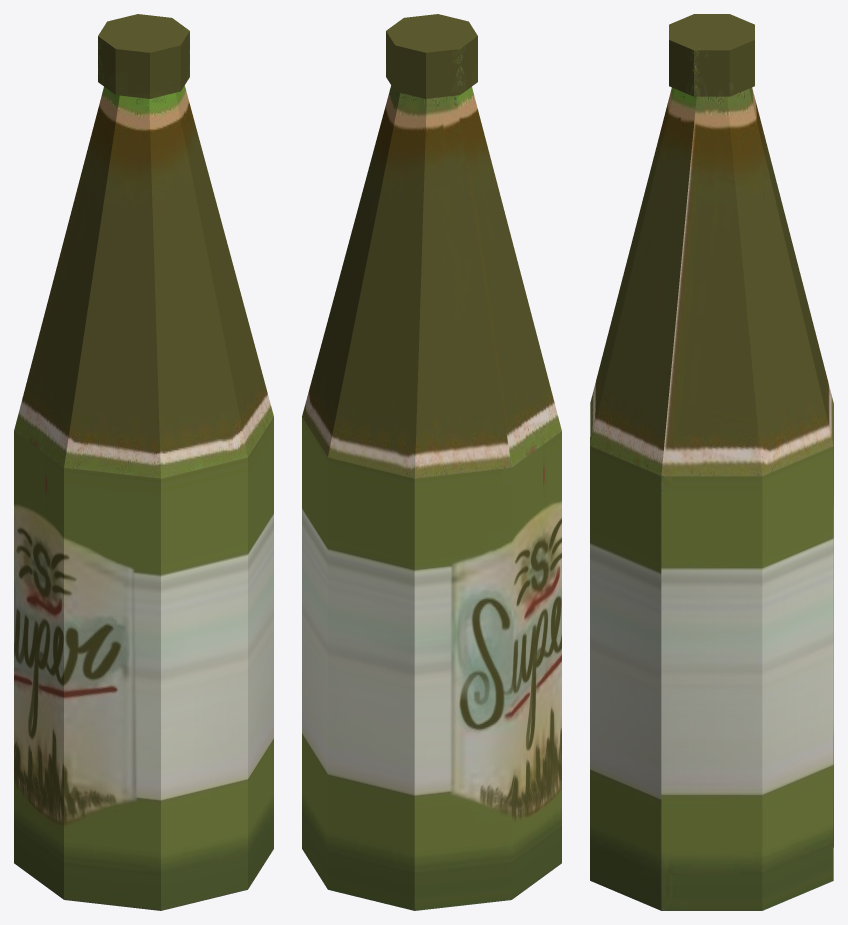
The model's file is beer3.fbx.
3 views of the same model, side by side, from view 1: azimuth 30°, elevation 25°; view 2: azimuth 150°, elevation 25°; view 3: azimuth 270°, elevation 25° (orthographic).
Parts seen in each view (by area): view 1: Beer Bottle.012; view 2: Beer Bottle.012; view 3: Beer Bottle.012.
Boxes of the visible parts, bbox=[...] form: Beer Bottle.012: bbox=[14, 14, 273, 910]; Beer Bottle.012: bbox=[302, 14, 561, 910]; Beer Bottle.012: bbox=[590, 14, 833, 910].
Bounding box in the file's own units: 25.61 × 95.92 × 25.61.
